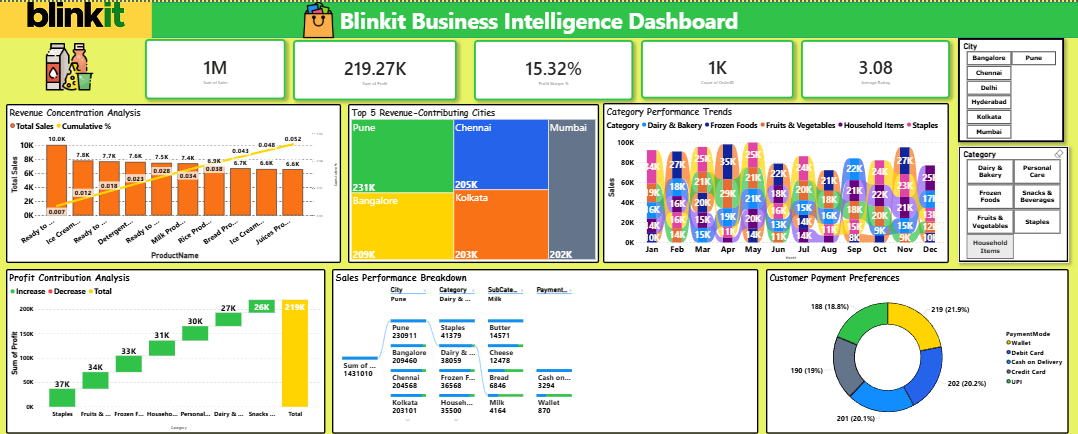

The dashboard page shown, as its layout file describes it:
{"tool":"powerbi","page":{"name":"Page 1","canvas":[4000,1600],"ordinal":0},"visuals":[{"type":"shape","box":[0,0,4000,133.3],"z":0},{"type":"cardVisual","title":"TOTAL REVENUE","fields":{"Data":["Sum(Sheet1.Sales)"]},"box":[541.4,137.9,520.7,224.1],"z":1000},{"type":"cardVisual","title":"TOTAL PROFIT","fields":{"Data":["Sum(Sheet1.Profit)"]},"box":[1089.7,141.4,606.9,224.1],"z":2000},{"type":"cardVisual","title":"TOTAL ORDERS","fields":{"Data":["Count(Sheet1.OrderID)"]},"box":[2379.3,141.4,565.5,217.2],"z":3000},{"type":"cardVisual","title":"PROFIT MARGINE%","fields":{"Data":["Sheet1.Profit Margin %"]},"box":[1758.6,141.4,589.7,224.1],"z":4000},{"type":"lineClusteredColumnComboChart","title":"Revenue Concentration Analysis","fields":{"Category":["Sheet1.ProductName"],"Y":["Sheet1.Total Sales"],"Y2":["Sheet1.Cumulative %"]},"box":[27.6,379.3,1365.5,586.2],"z":5000},{"type":"treemap","title":"Top 5 Revenue-Contributing Cities","fields":{"Group":["Sheet1.City"],"Values":["Sum(Sheet1.Sales)"]},"box":[1420.7,379.3,927.6,586.2],"z":6000},{"type":"waterfallChart","title":"Profit Contribution Analysis","fields":{"Category":["Sheet1.Category"],"Y":["Sum(Sheet1.Profit)"]},"box":[27.6,989.7,1258.6,610.3],"z":7000},{"type":"decompositionTreeVisual","title":"Sales Performance Breakdown","fields":{"Analyze":["Sum(Sheet1.Sales)"],"ExplainBy":["Sheet1.City","Sheet1.Category","Sheet1.SubCategory","Sheet1.PaymentMode"]},"box":[1310.3,989.7,1503.4,610.3],"z":8000},{"type":"pivotTable","title":"Category Performance Analysis","fields":{"Rows":["Sheet1.Category"],"Columns":["Sheet1.Month"],"Values":["Sheet1.Total Sales"]},"box":[2379.3,375.9,1141.4,593.1],"z":9000},{"type":"donutChart","title":"Customer Payment Preferences","fields":{"Category":["Sheet1.PaymentMode"],"Y":["CountNonNull(Sheet1.OrderID)"]},"box":[2841.4,989.7,1120.7,610.3],"z":10000},{"type":"slicer","fields":{"Values":["Sheet1.Category"]},"box":[3551.7,541.4,410.3,431],"z":11000},{"type":"slicer","fields":{"Values":["Sheet1.City"]},"box":[3551.7,141.4,410.3,386.2],"z":12000},{"type":"cardVisual","title":"AVERAGE RATING","fields":{"Data":["Sheet1.Average Rating"]},"box":[2969,141.4,551.7,217.2],"z":13000},{"type":"image","box":[0,0,565.5,134.5],"z":14000},{"type":"image","box":[1034.5,0,300,134.5],"z":15000},{"type":"image","box":[65.5,151.7,431,213.8],"z":16000}]}

Visuals, with their boxes in screenshot pixels (x1, y1, x2, y2), scaled from the page's 4000x1600 canvas onto the 1078x434 screenshot:
shape: <bbox>0, 0, 1077, 36</bbox>
"TOTAL REVENUE" cardVisual: <bbox>146, 37, 286, 98</bbox>
"TOTAL PROFIT" cardVisual: <bbox>294, 38, 457, 99</bbox>
"TOTAL ORDERS" cardVisual: <bbox>641, 38, 794, 97</bbox>
"PROFIT MARGINE%" cardVisual: <bbox>474, 38, 633, 99</bbox>
"Revenue Concentration Analysis" lineClusteredColumnComboChart: <bbox>7, 103, 375, 262</bbox>
"Top 5 Revenue-Contributing Cities" treemap: <bbox>383, 103, 633, 262</bbox>
"Profit Contribution Analysis" waterfallChart: <bbox>7, 268, 347, 433</bbox>
"Sales Performance Breakdown" decompositionTreeVisual: <bbox>353, 268, 758, 433</bbox>
"Category Performance Analysis" pivotTable: <bbox>641, 102, 949, 263</bbox>
"Customer Payment Preferences" donutChart: <bbox>766, 268, 1068, 433</bbox>
slicer - Sheet1.Category: <bbox>957, 147, 1068, 264</bbox>
slicer - Sheet1.City: <bbox>957, 38, 1068, 143</bbox>
"AVERAGE RATING" cardVisual: <bbox>800, 38, 949, 97</bbox>
image: <bbox>0, 0, 152, 36</bbox>
image: <bbox>279, 0, 360, 36</bbox>
image: <bbox>18, 41, 134, 99</bbox>
